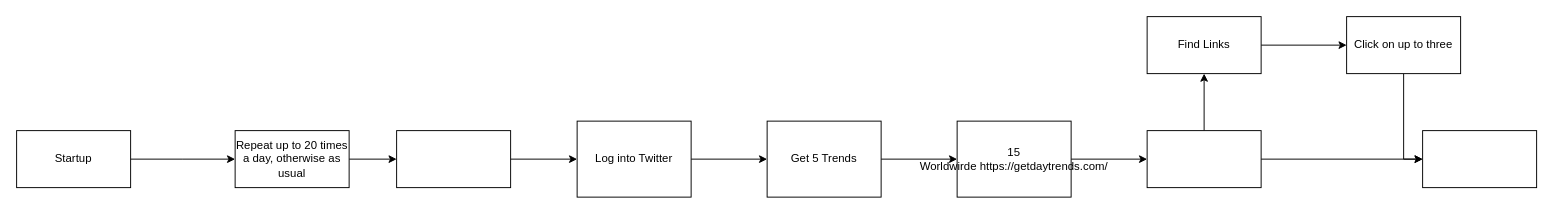
This 1553x214 diagram has some shape labels left out. Each missing label, with the centre of its shape:
"End Programm" goes at [1479,159].
"Reset each day code" goes at [453,159].
"Search on twitter" goes at [1203,159].
